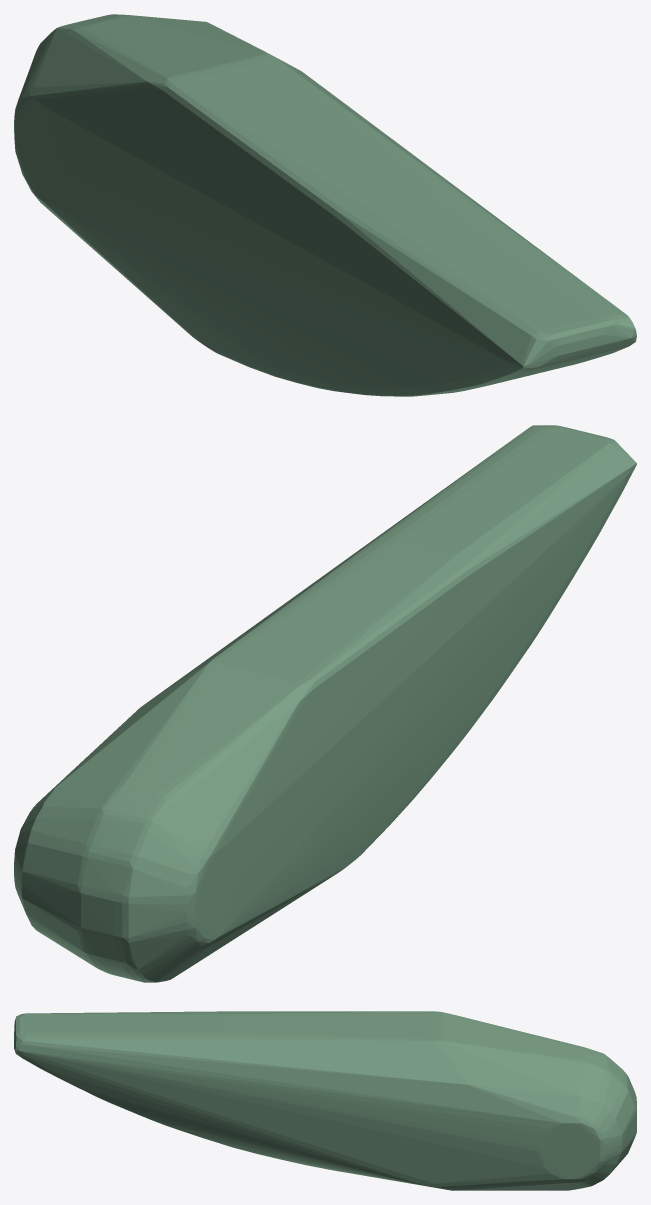
Rendered from gripper_l2.obj.
3 views of the same model, one above another, from view 1: azimuth 30°, elevation 25°; view 2: azimuth 150°, elevation 25°; view 3: azimuth 270°, elevation 25° (orthographic). The views are drawn at different scales.
Visible parts, largest first — view 1: geometry_0; view 2: geometry_0; view 3: geometry_0.
Boxes of the visible parts, x1,y1,x2,y2 form: geometry_0: (14,14,636,396); geometry_0: (14,425,636,982); geometry_0: (14,1011,636,1190).
Bounding box in the file's own units: 0.0379 × 0.0462 × 0.1739.
